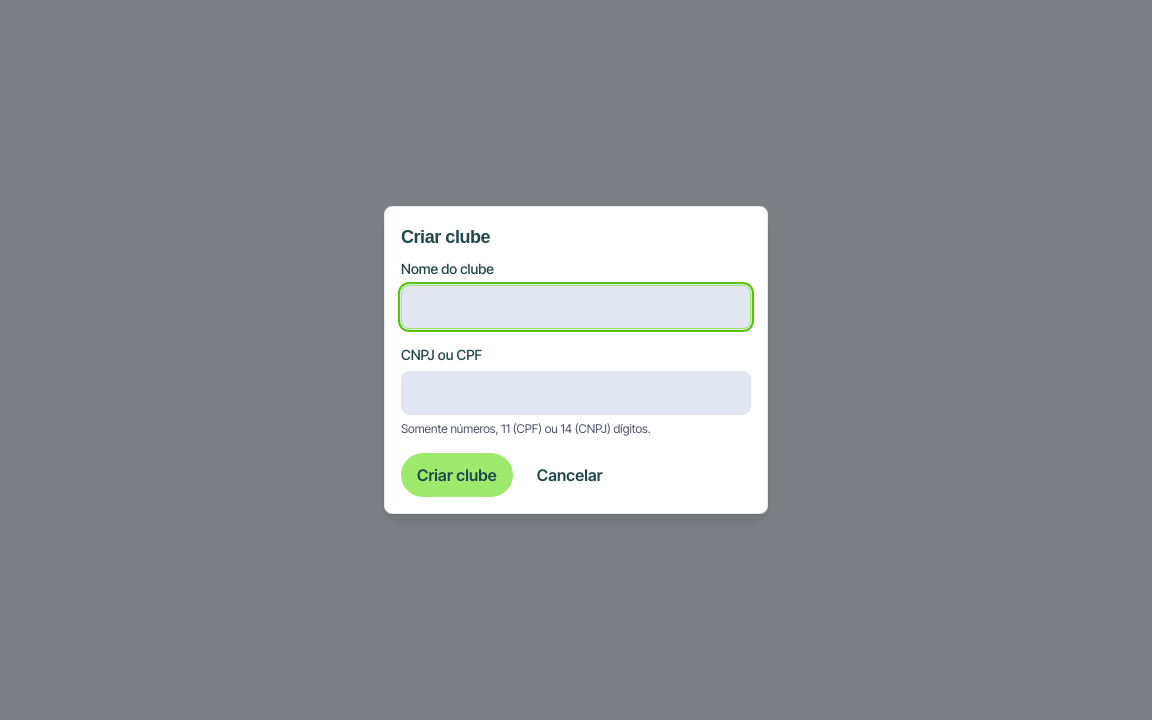
Test: CreateClubeDialog › aplica máscara de CPF/CNPJ e guarda só dígitos no campo de documento
In the field labelled "CNPJ ou CPF": (576, 393) [401,371,751,415], type "123.456.789-01"
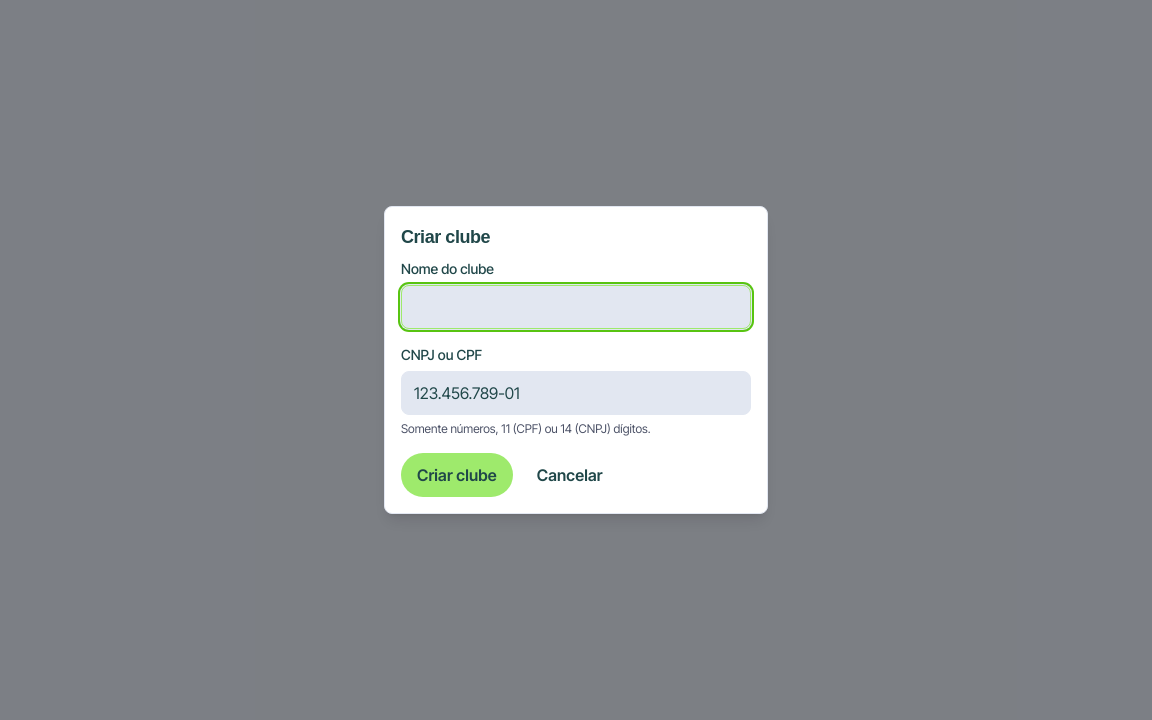
Replace the text in the field labelled "CNPJ ou CPF" with "12345678000199": (576, 393) [401,371,751,415]
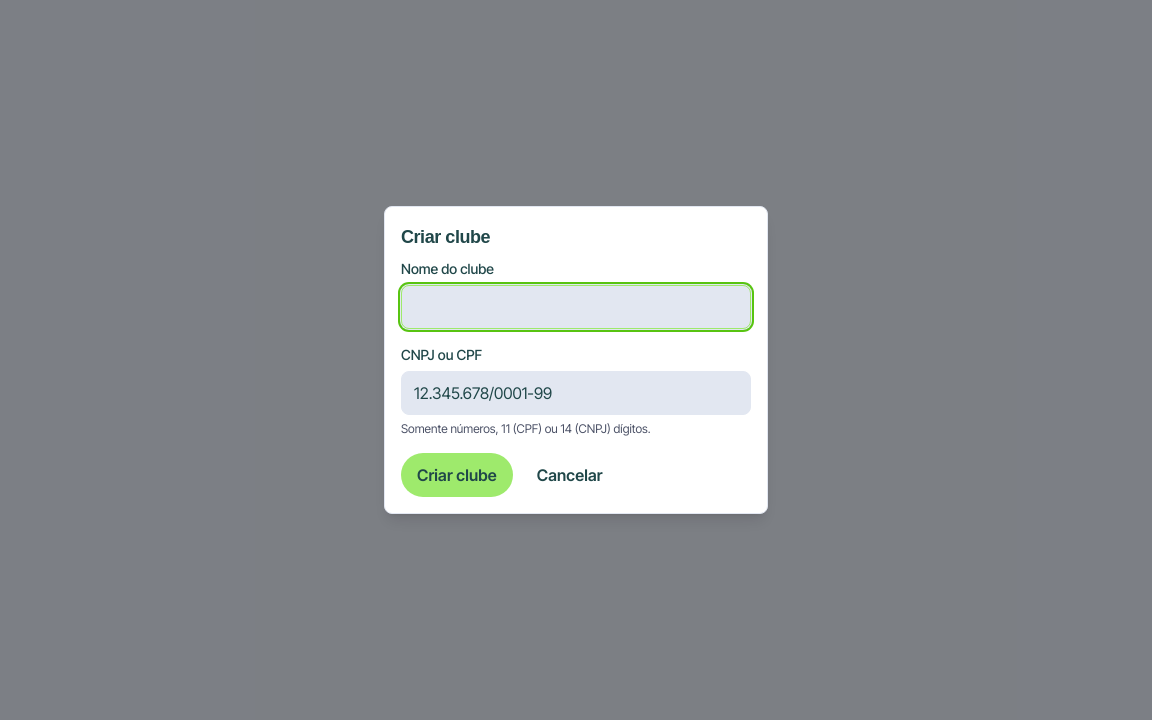
Now the field labelled "CNPJ ou CPF" holds "12.345.678/0001-99", box [401,371,751,415]
